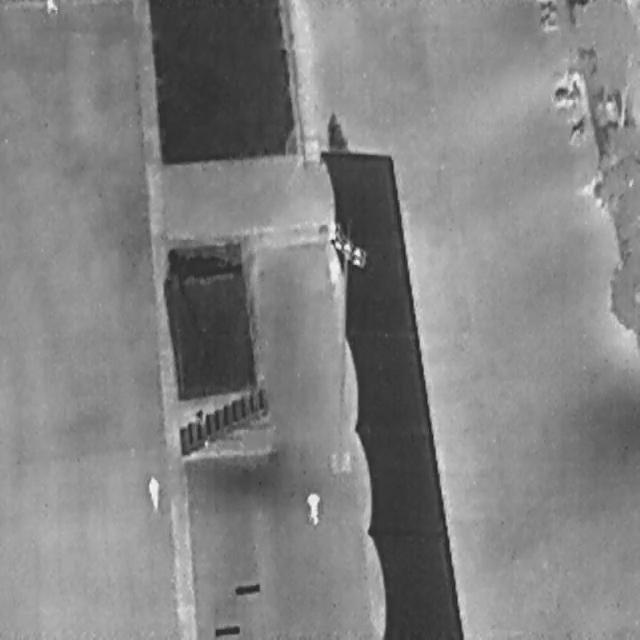Bicycle: (560, 110, 592, 150), (552, 81, 579, 105), (538, 14, 559, 34), (537, 0, 558, 11)
Person: (304, 488, 321, 524), (146, 475, 159, 509), (44, 0, 59, 14)
